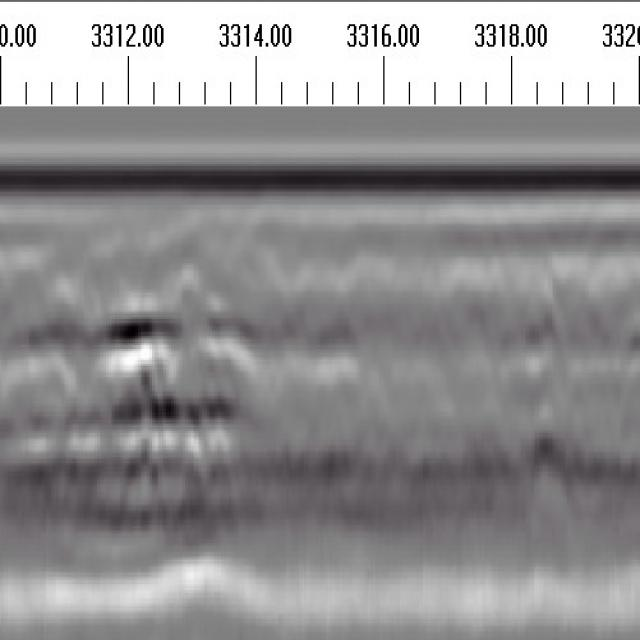loose: (37, 274, 248, 511)
